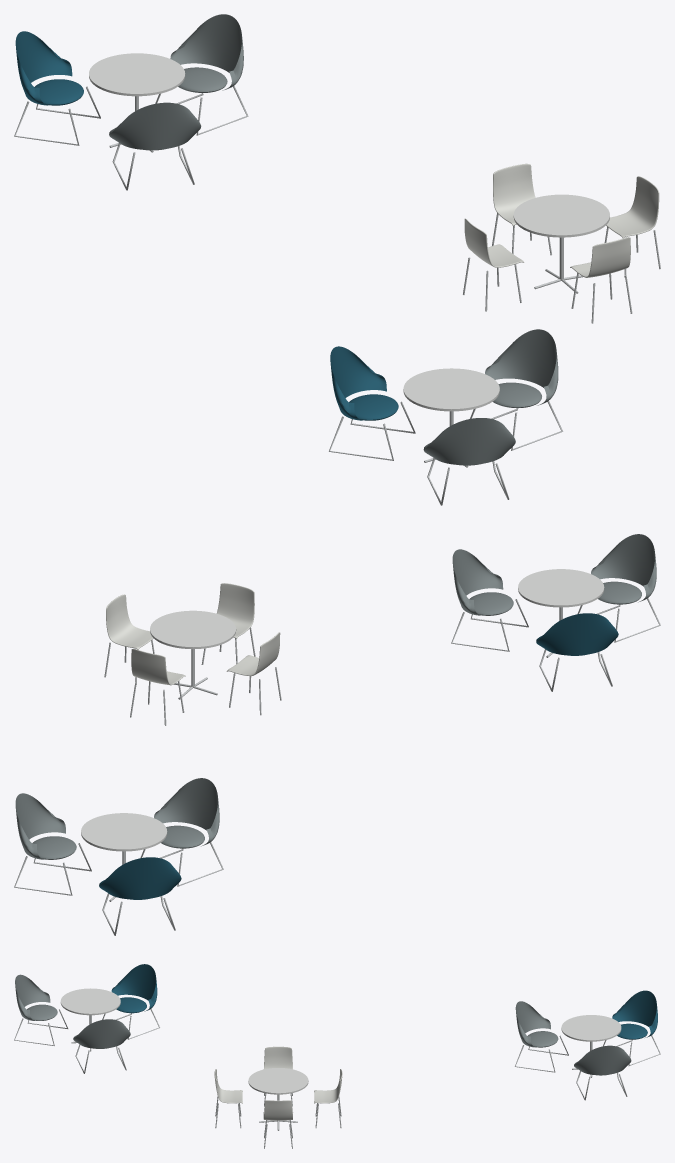
The model's file is SM_L1_Furniture_Solid_cd3a3ad8ee_0.fbx.
3 renders of one model, top to bottom at view 1: azimuth 30°, elevation 25°; view 2: azimuth 150°, elevation 25°; view 3: azimuth 270°, elevation 25°, orthographic. The views are drawn at different scales.
Parts seen in each view (by area): view 1: SM_L1_Furniture_Solid_cd3a3ad8ee_0; view 2: SM_L1_Furniture_Solid_cd3a3ad8ee_0; view 3: SM_L1_Furniture_Solid_cd3a3ad8ee_0.
Boxes of the visible parts, left/top/right/bottom form: SM_L1_Furniture_Solid_cd3a3ad8ee_0: left=14, top=14, right=660, bottom=505; SM_L1_Furniture_Solid_cd3a3ad8ee_0: left=14, top=534, right=660, bottom=935; SM_L1_Furniture_Solid_cd3a3ad8ee_0: left=14, top=964, right=660, bottom=1148.
Size of the model in its own units: 5.06 by 10.34 by 0.994.
